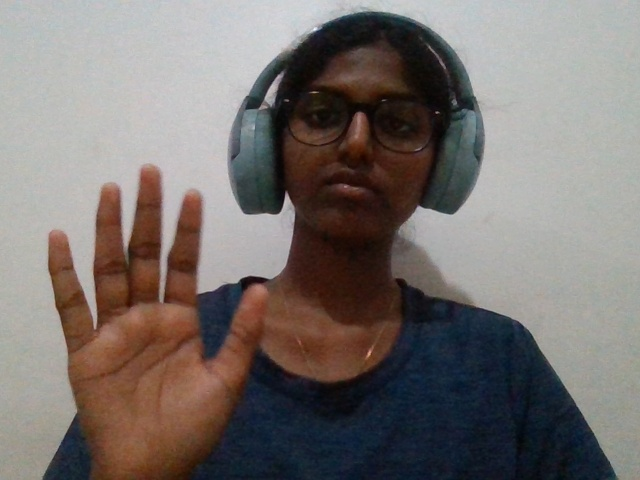Bye: (25, 158, 281, 480)
